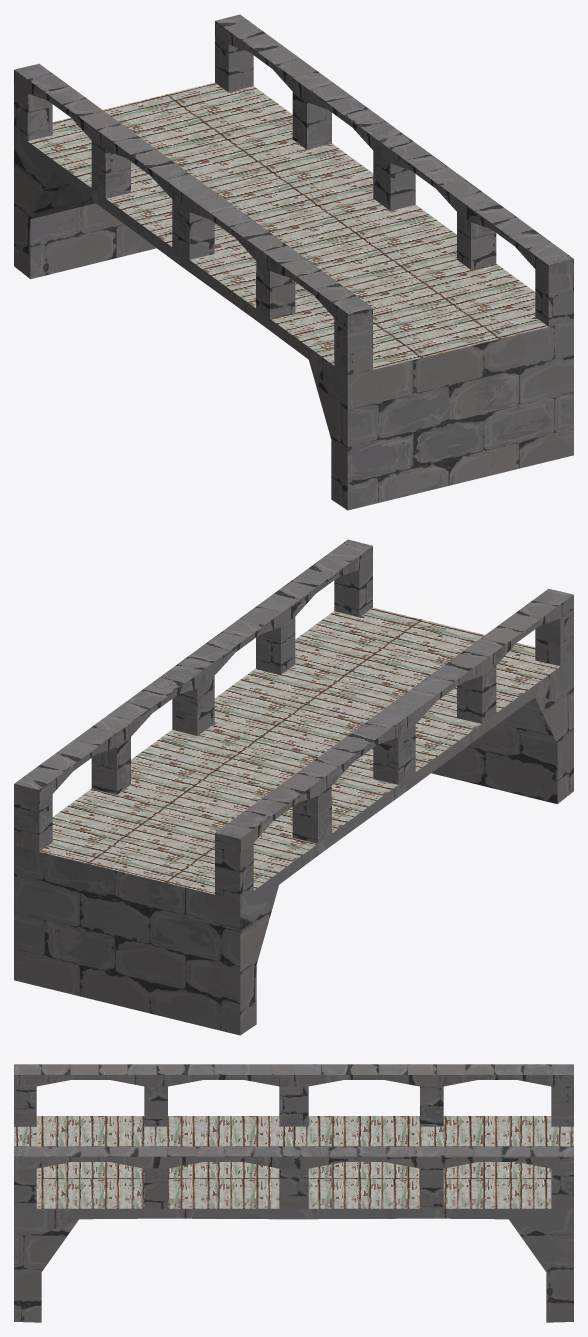
File: Bridge.fbx
3 renders of one model, top to bottom at view 1: azimuth 30°, elevation 25°; view 2: azimuth 150°, elevation 25°; view 3: azimuth 270°, elevation 25°, orthographic. The views are drawn at different scales.
Visible parts, largest first — view 1: Cube; view 2: Cube; view 3: Cube.
Part boxes in pixels (box(x1,y1,x2,y2)): Cube: box(14, 14, 573, 510); Cube: box(14, 539, 573, 1035); Cube: box(14, 1064, 573, 1322).
Bounding box in the file's own units: 783 × 653 × 2000.
